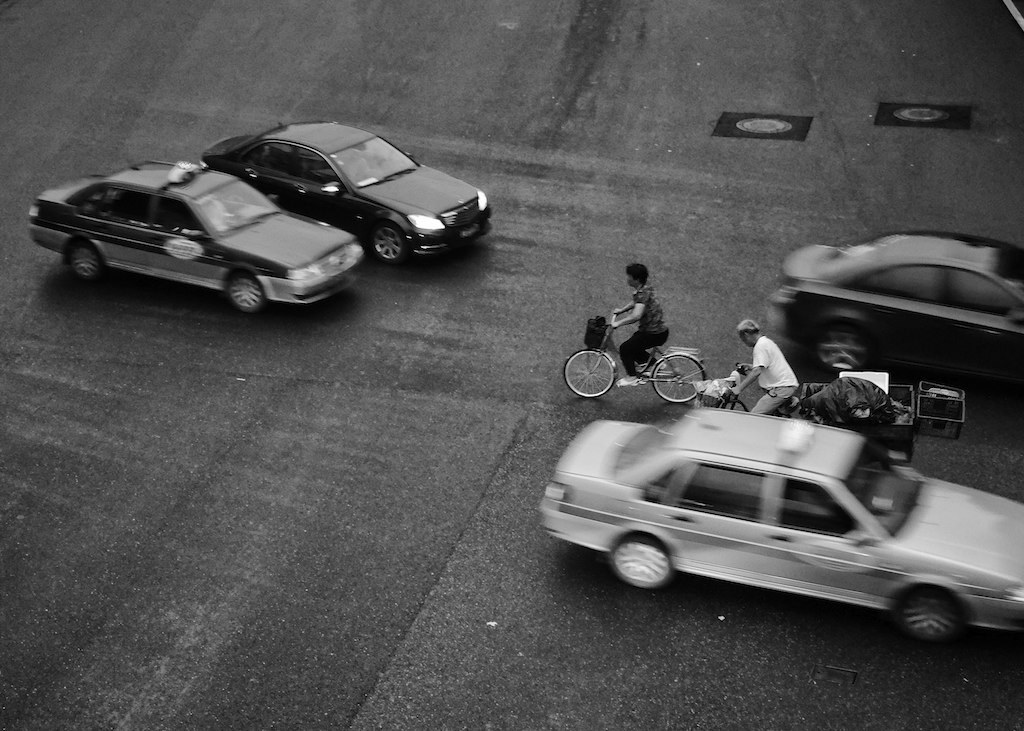Car: (542, 409, 1022, 647), (24, 159, 364, 317), (764, 232, 1022, 405), (202, 120, 492, 268)
